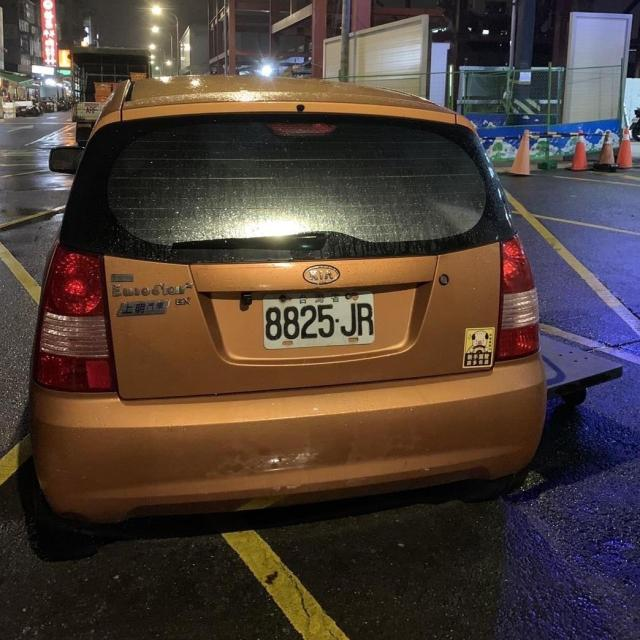W: (260, 288, 378, 349)
